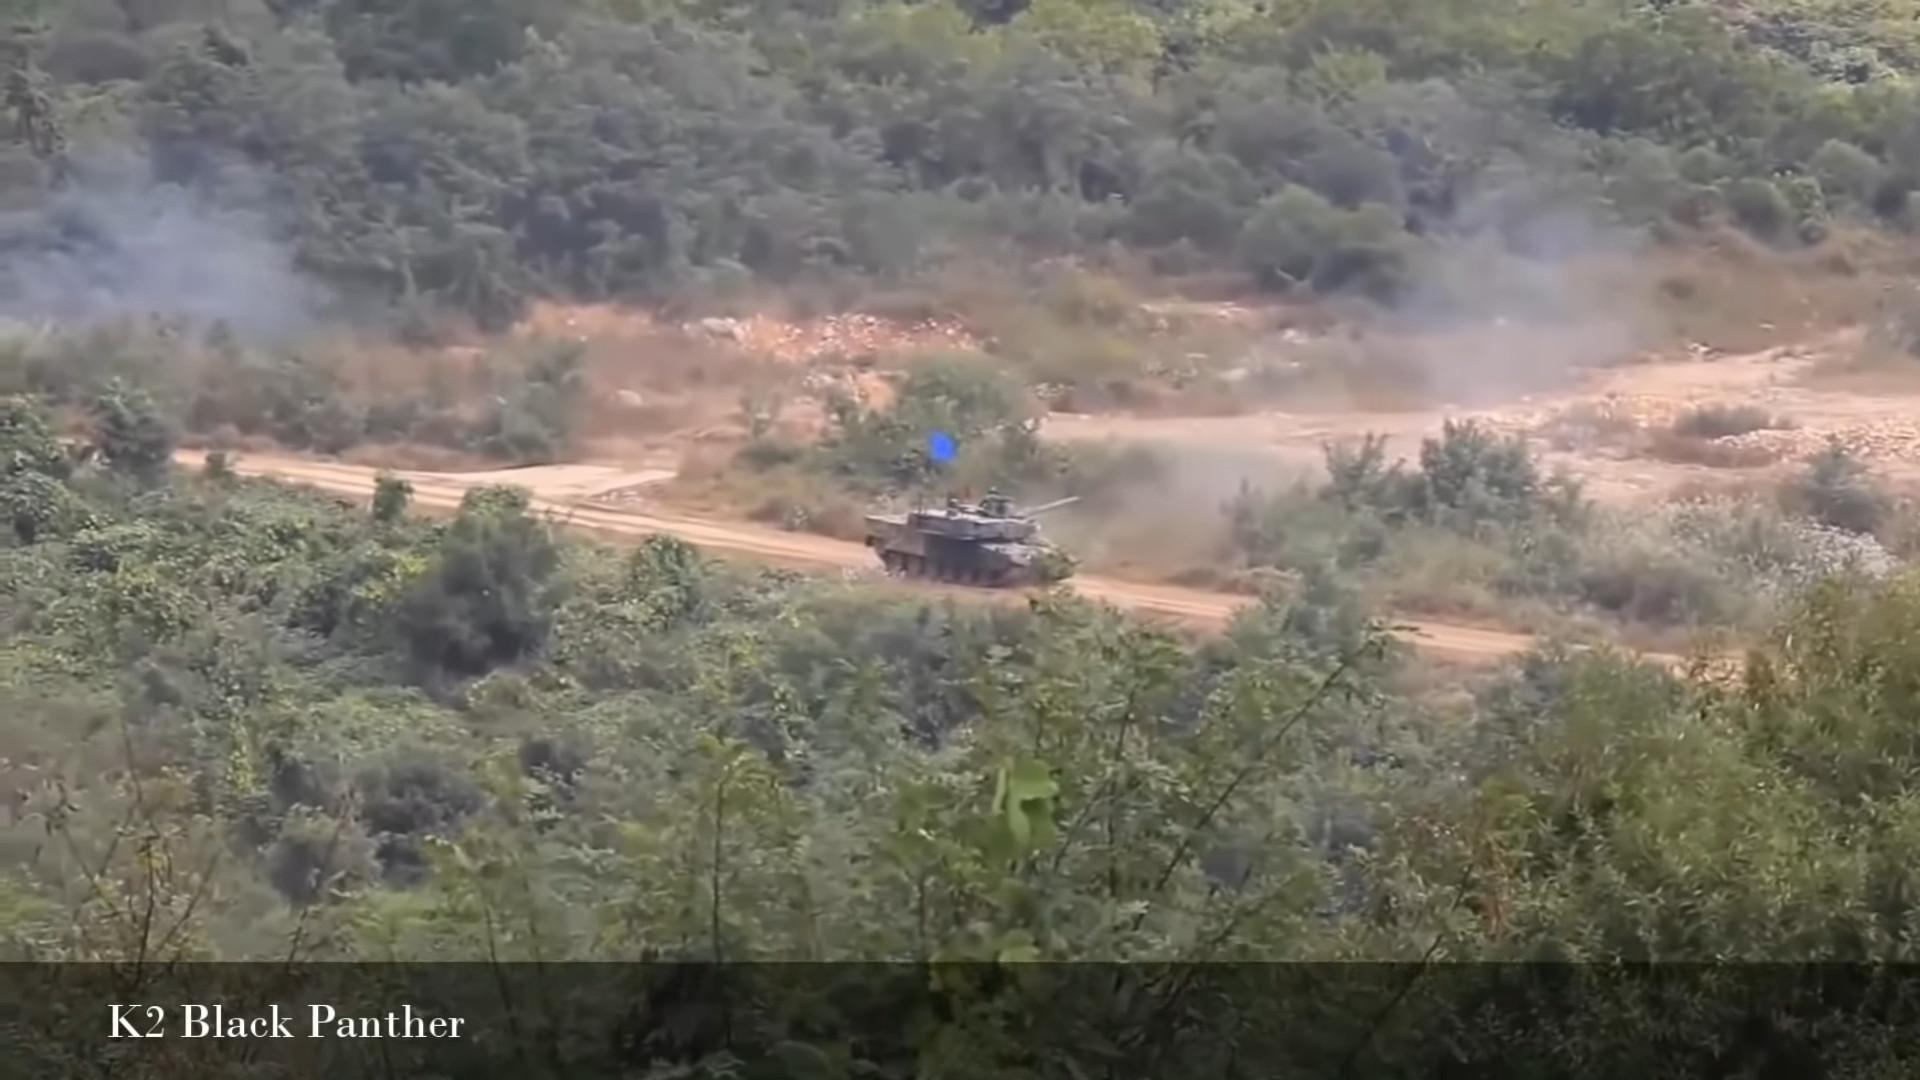tank: (865, 497, 1082, 585)
